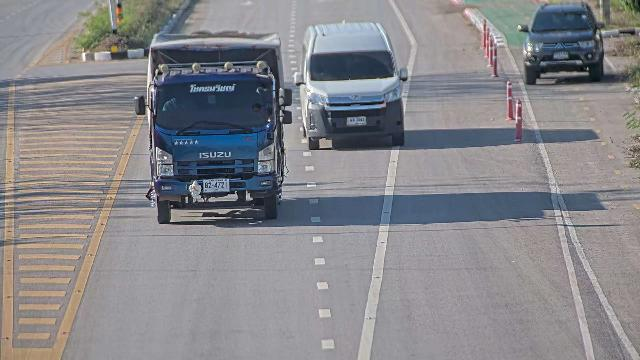pickup-truck: (517, 1, 606, 85)
truck: (142, 25, 288, 221)
van: (292, 20, 412, 148)
